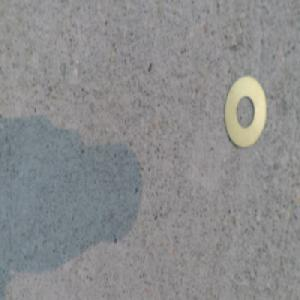Washer: (222, 75, 266, 151)
